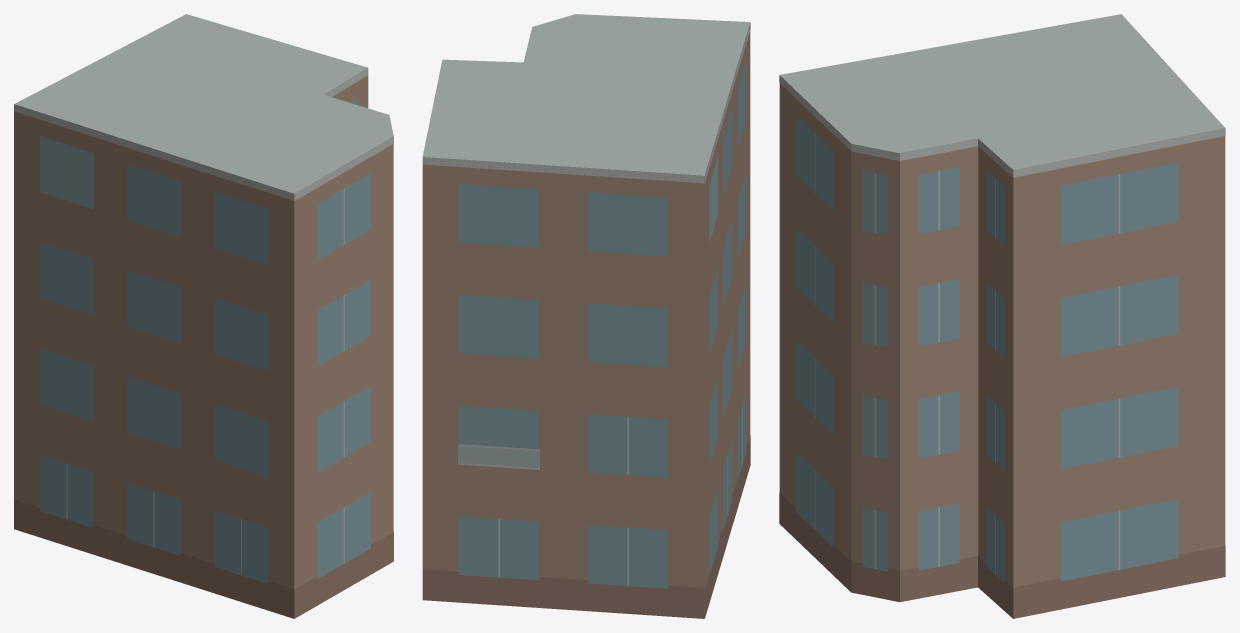
Rendered from survey-upis-32463834.glb.
3 renders of one model, left to right at view 1: azimuth 30°, elevation 25°; view 2: azimuth 150°, elevation 25°; view 3: azimuth 270°, elevation 25°, orthographic. The views are drawn at different scales.
Visible parts, largest first — view 1: survey-upis-32463834.tmp; view 2: survey-upis-32463834.tmp; view 3: survey-upis-32463834.tmp.
Boxes of the visible parts, x1,y1,x2,y2 form: survey-upis-32463834.tmp: (14,14,393,618); survey-upis-32463834.tmp: (422,14,750,618); survey-upis-32463834.tmp: (779,14,1225,618).
Size of the model in its own units: 10.52 by 14.1 by 12.71.
